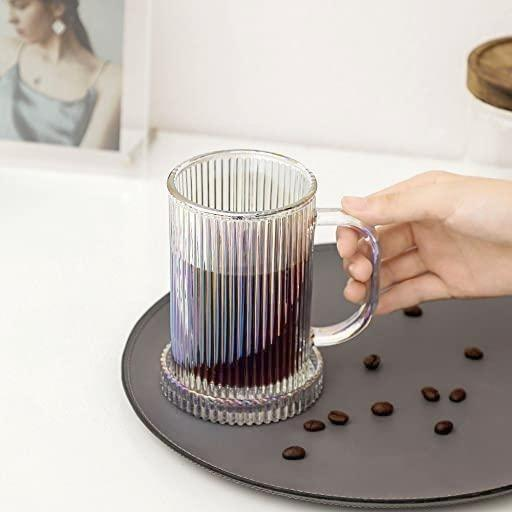glass-mug: (159, 143, 384, 430)
